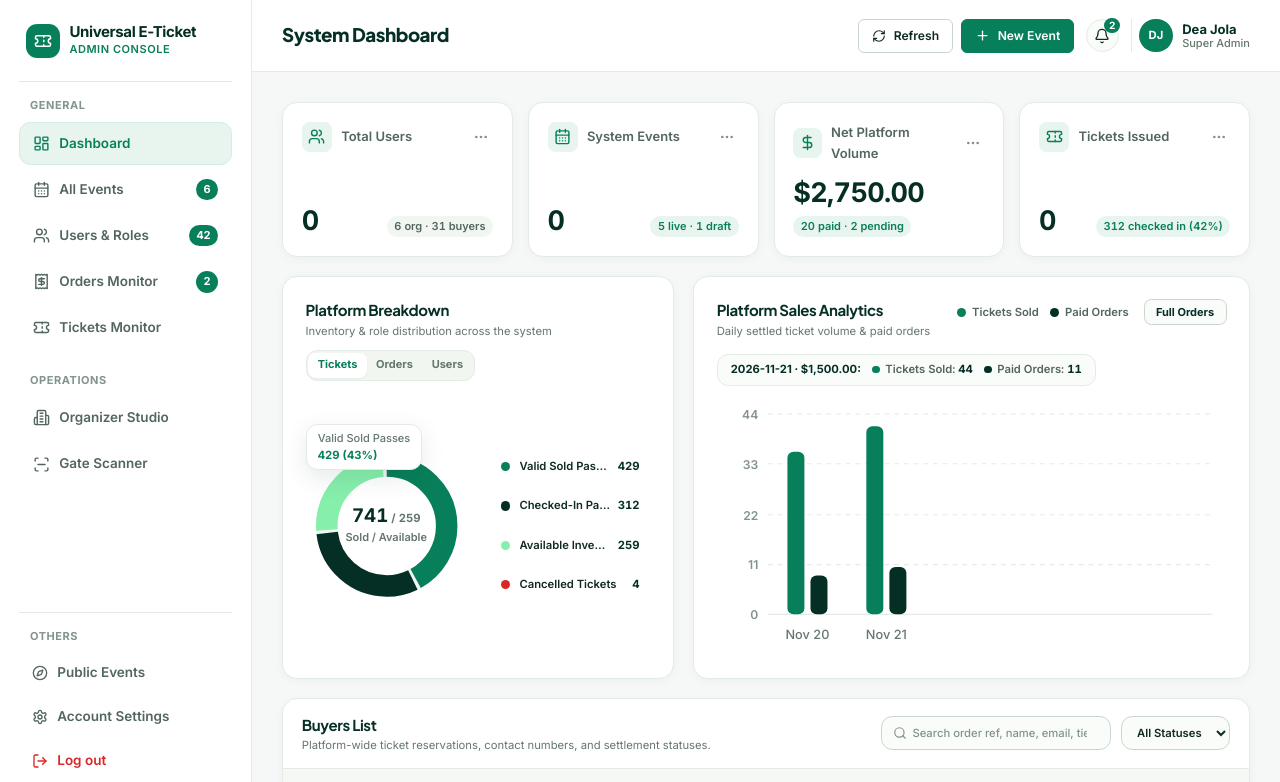
Test: Frontend Components & Role-Based UI › renders unified SaaS AdminDashboardPage with system KPIs, charts, Buyers List, All Events, and Users tabs
Later steps or results of the test are not shown.
Expected: the text "Admin Console" is shown, [69,42,170,56]
Expected: the text "Super Admin" is shown, [1182,37,1250,51]
Click the button "All Events 6" at (126, 190), box [19,168,232,211]
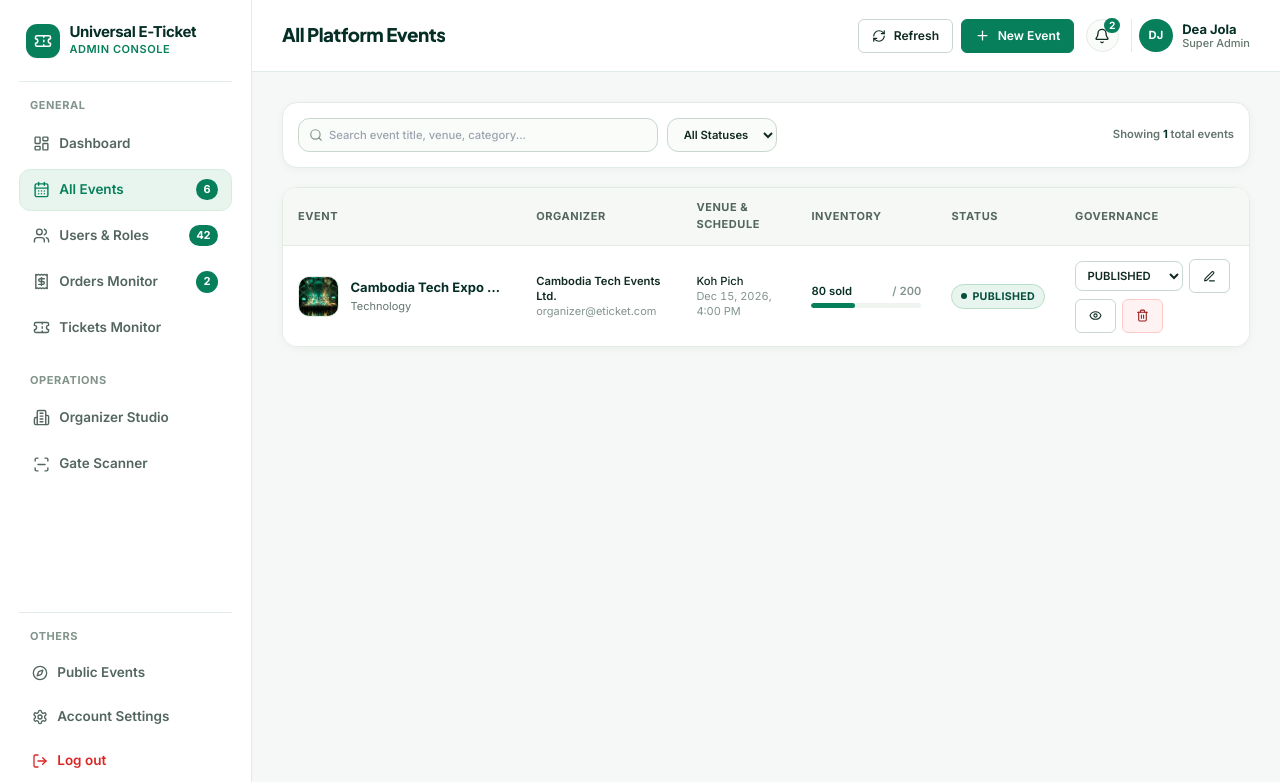
Expected: the text "Koh Pich" is shown, [696,274,744,288]
Expected: the dropdown named "Status for Cambodia Tech Expo 2026" is shown, [1075,261,1183,291]
Click the button "Users & Roles 42" at (126, 236), box [19,215,232,257]
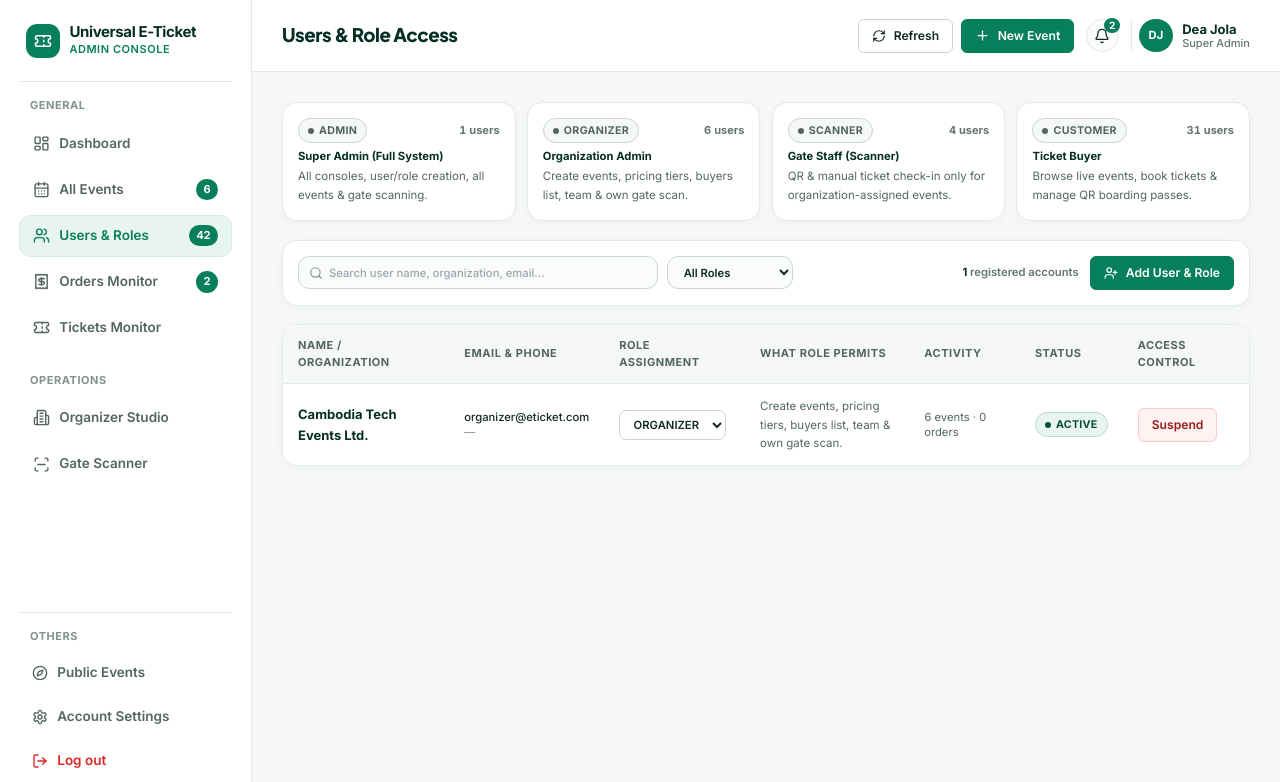
Expected: the dropdown named "Role for organizer@eticket.com" is shown, [619,410,726,440]
Expected: the text "Super Admin (Full System)" is shown, [298,149,444,163]
